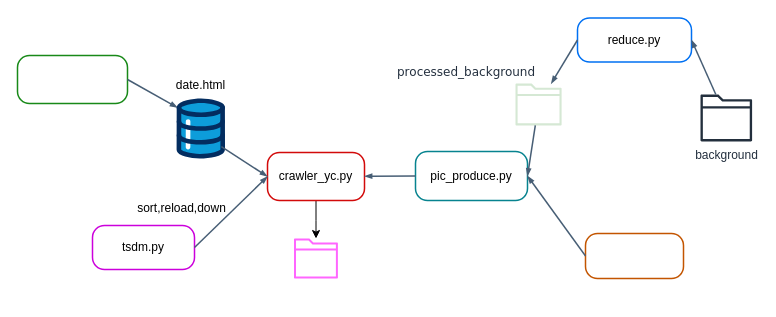
The diagram is 776 pixels wide and 317 high, and some of its shapes have lost their labels. The shapes that lost their labels are listed below. From the top down, each one's centre as x and y in pixels, then its label:
point 72,79: get_respose.py
point 315,258: produced
point 634,255: font_get.py
